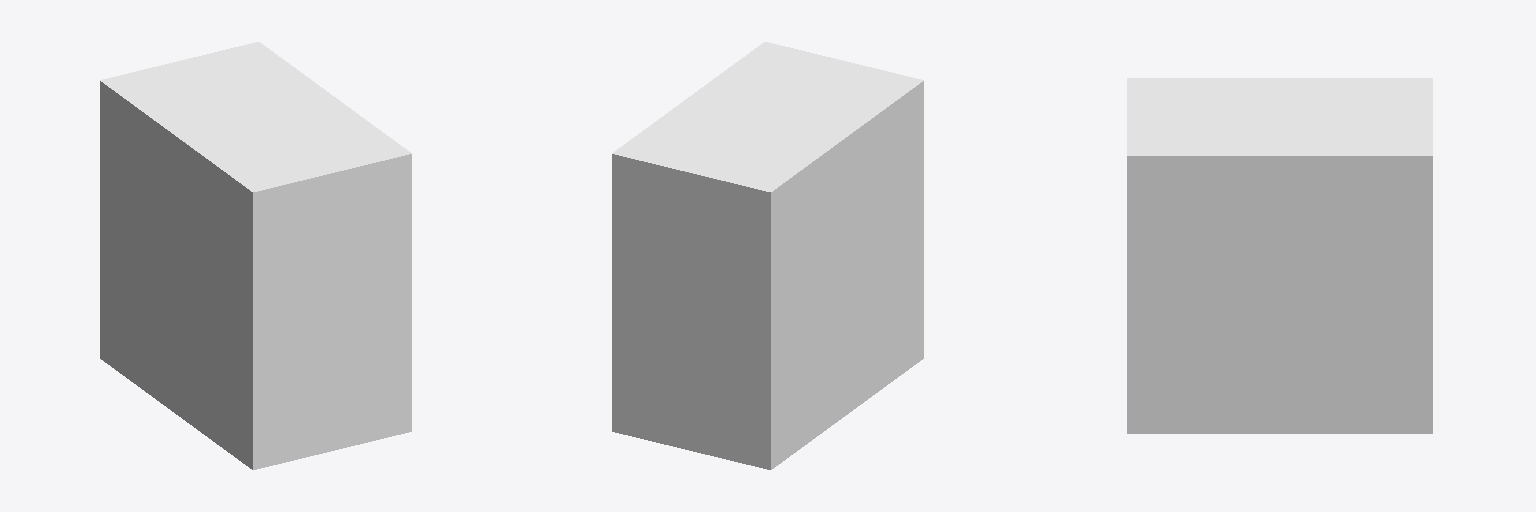
Rendered from Minero-2.obj.
3 renders of one model, left to right at view 1: azimuth 30°, elevation 25°; view 2: azimuth 150°, elevation 25°; view 3: azimuth 270°, elevation 25°, orthographic.
Parts seen in each view (by area): view 1: object 1; view 2: object 1; view 3: object 1.
Part boxes in pixels (x1,y1,x2,y2): object 1: (100,42,411,469); object 1: (612,42,923,469); object 1: (1127,78,1432,433).
Size of the model in its own units: 0.6 by 1 by 1.